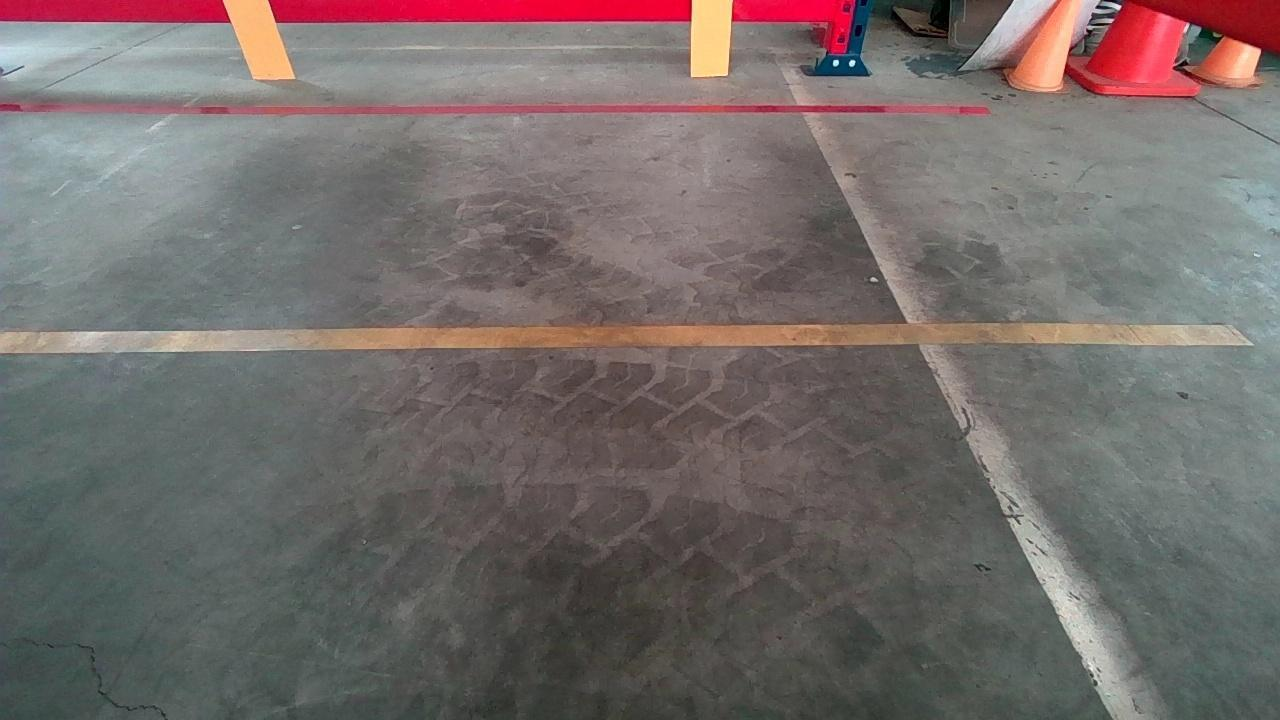orange_strip: (222, 0, 296, 77), (691, 0, 732, 74)
red_line: (0, 102, 991, 113)
yellow_line: (0, 326, 1247, 359)
